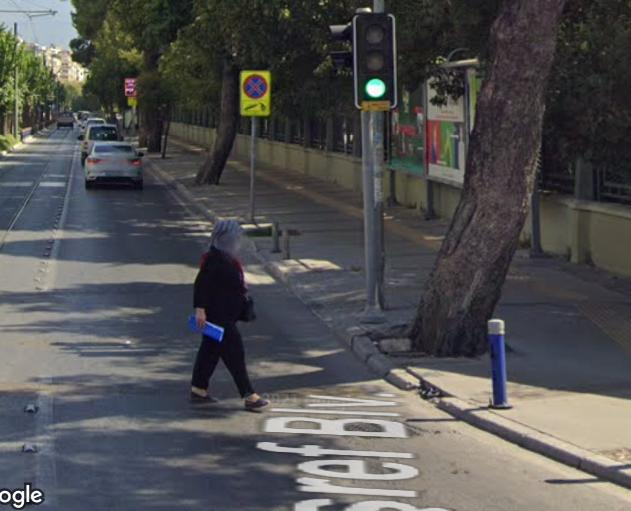greenlight: (353, 15, 399, 106)
